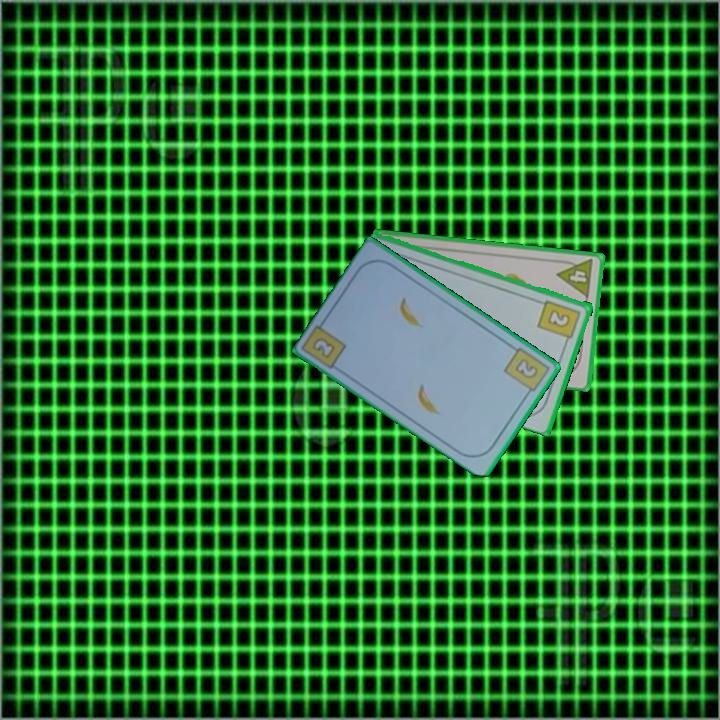2b: (500, 344, 552, 400), (535, 296, 584, 347), (309, 334, 338, 361)
4p: (554, 256, 596, 300)
